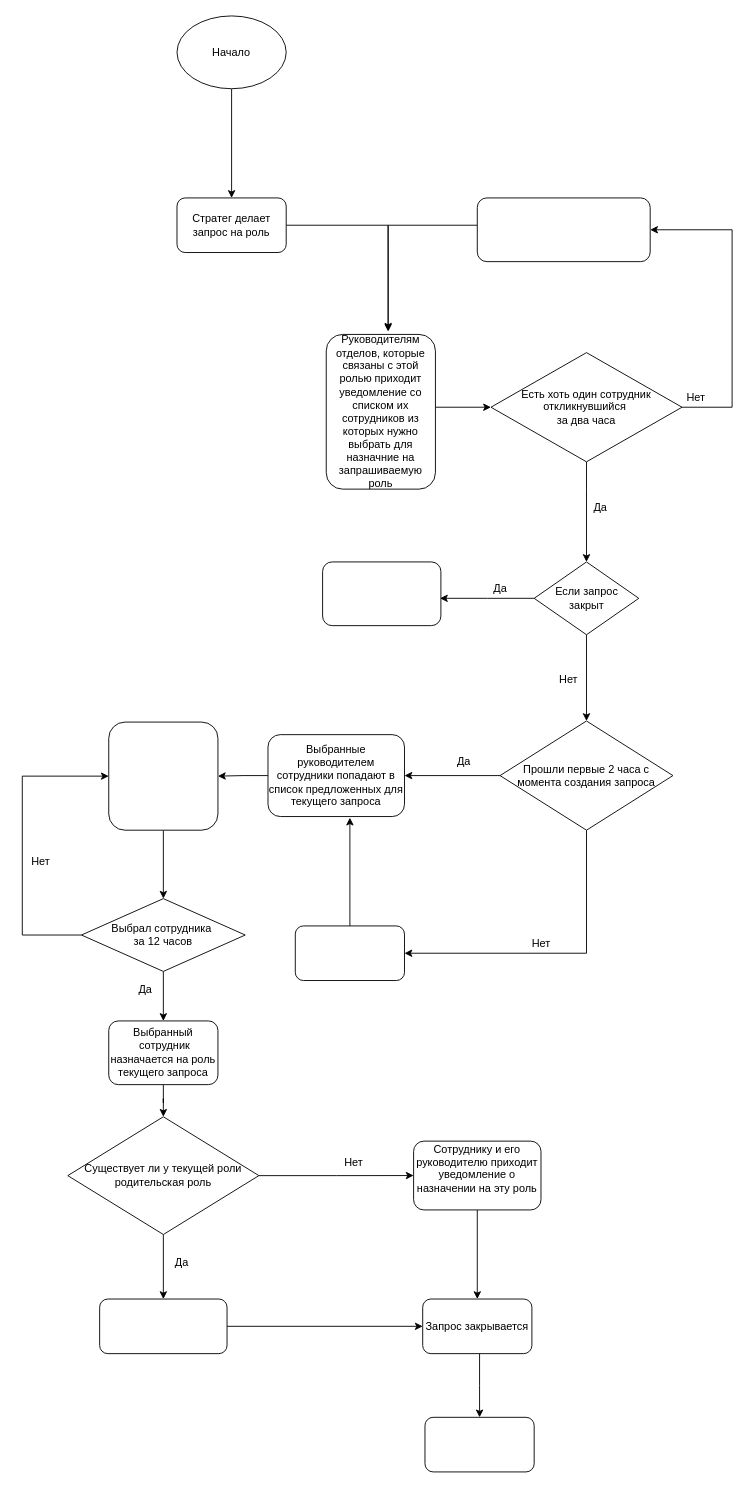
This 755x1488 diagram has some shape labels left out. Here are the shapes that lost their labels. From the top down, the centre of each, then its label:
At (563,229): "Отправить уведомление уполномоченному сотруднику с просьбой разобраться".
At (381,593): "Руководителю сообщается что запрос закрыт и выбирать никого уже не нужно".
At (163,775): "Стратегу приходит уведомление в котором указано какие сотрудники ему предложены".
At (349,953): "Подождать 2 часа с момента создания запроса".
At (163,1326): "Руководитель отдела выбранного сотрудника назначается на родиетльску роль".
At (479,1444): "Конец".
